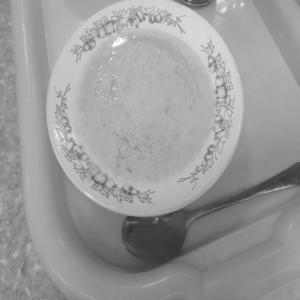porridge: (44, 18, 239, 190)
